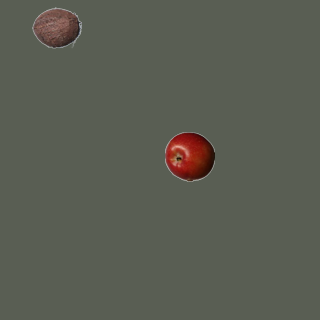Apple Braeburn: (164, 131, 214, 181)
Cocos: (31, 2, 81, 52)
